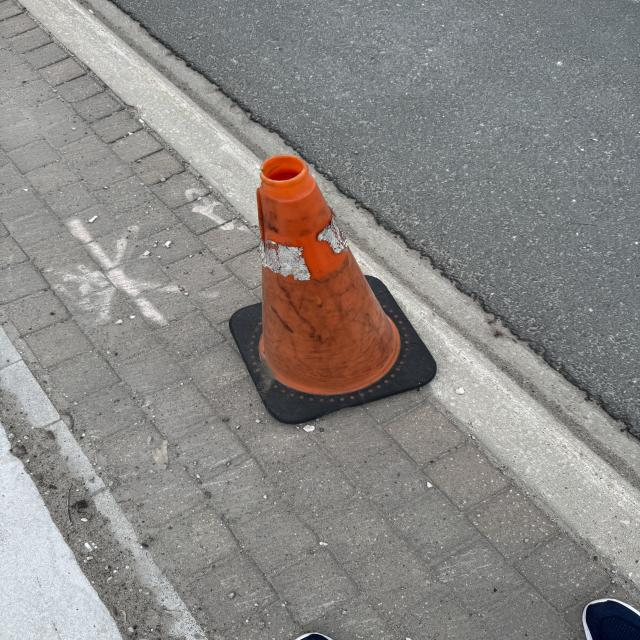Traffic Cone: (226, 153, 440, 423)
